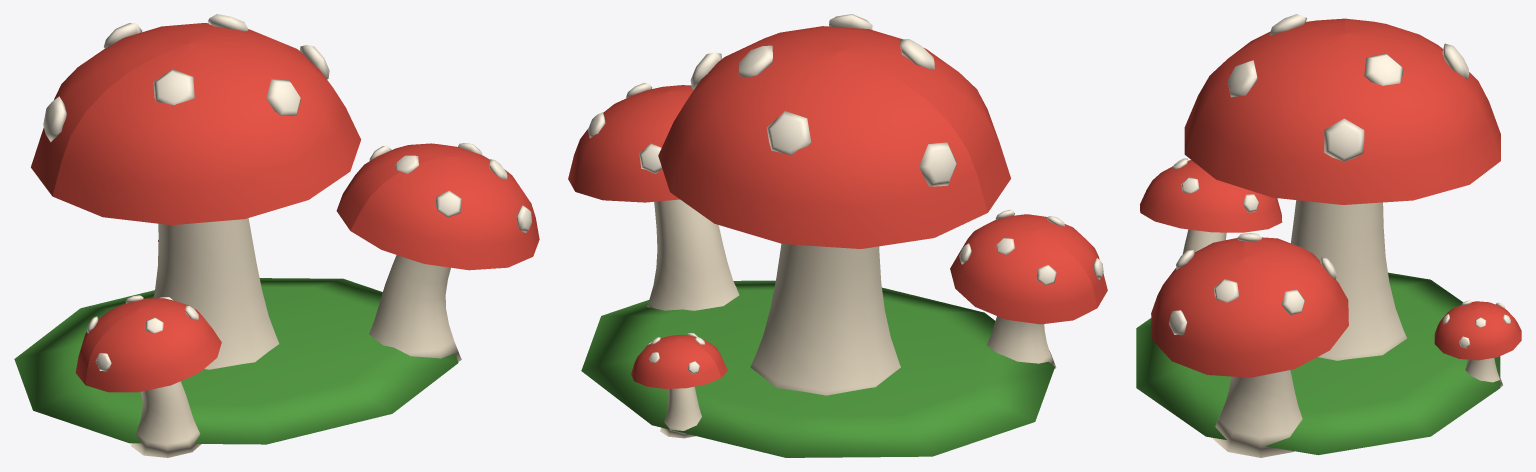
Rendered from MushroomCluster.glb.
3 renders of one model, left to right at view 1: azimuth 30°, elevation 25°; view 2: azimuth 150°, elevation 25°; view 3: azimuth 270°, elevation 25°, orthographic. The views are drawn at different scales.
Parts seen in each view (by area): view 1: Body; view 2: Body; view 3: Body.
Part boxes in pixels (x1,y1,x2,y2): Body: [14, 14, 539, 457]; Body: [568, 14, 1107, 457]; Body: [1136, 14, 1521, 457].
Size of the model in its own units: 2.72 by 1.91 by 2.01.
Materials: 1 (1 with a texture image).
